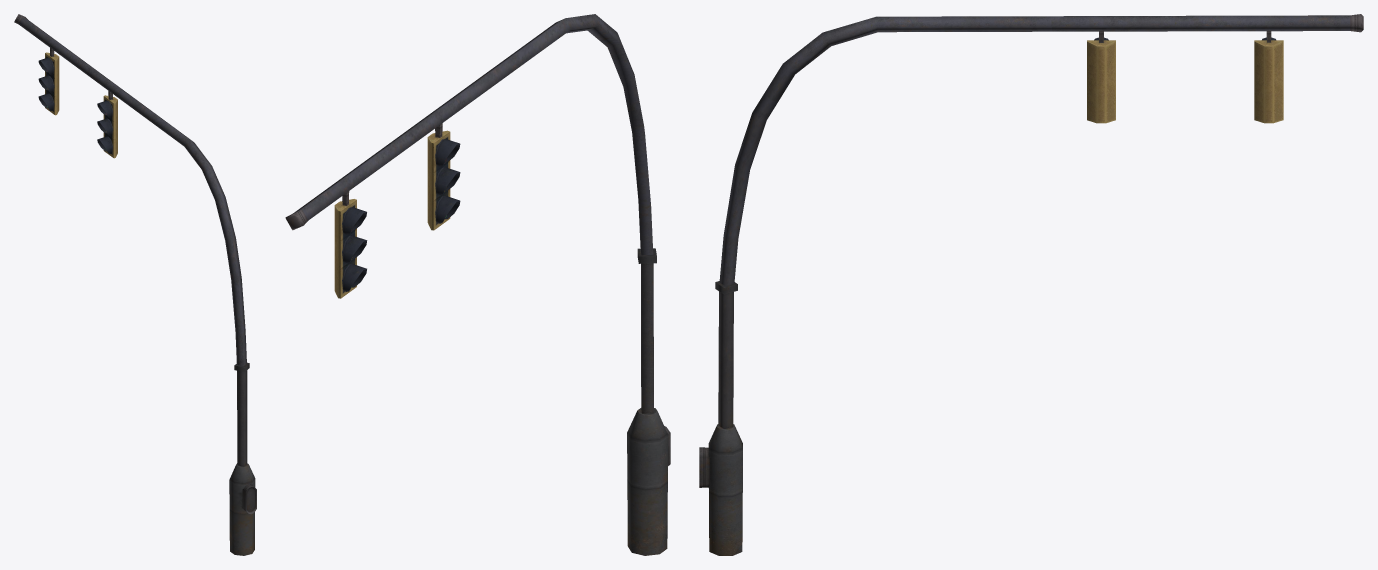
File: Traffic_Light_2.glb
3 renders of one model, left to right at view 1: azimuth 30°, elevation 25°; view 2: azimuth 150°, elevation 25°; view 3: azimuth 270°, elevation 25°, orthographic. The views are drawn at different scales.
Parts seen in each view (by area): view 1: Traffic_Light_2__LOD3; view 2: Traffic_Light_2__LOD3; view 3: Traffic_Light_2__LOD3.
Boxes of the visible parts, x1,y1,x2,y2 form: Traffic_Light_2__LOD3: (14, 14, 256, 555); Traffic_Light_2__LOD3: (285, 14, 670, 555); Traffic_Light_2__LOD3: (699, 14, 1363, 555).
Bounding box in the file's own units: 0.3674 × 6.03 × 6.79.
1 material, 1 textured.
